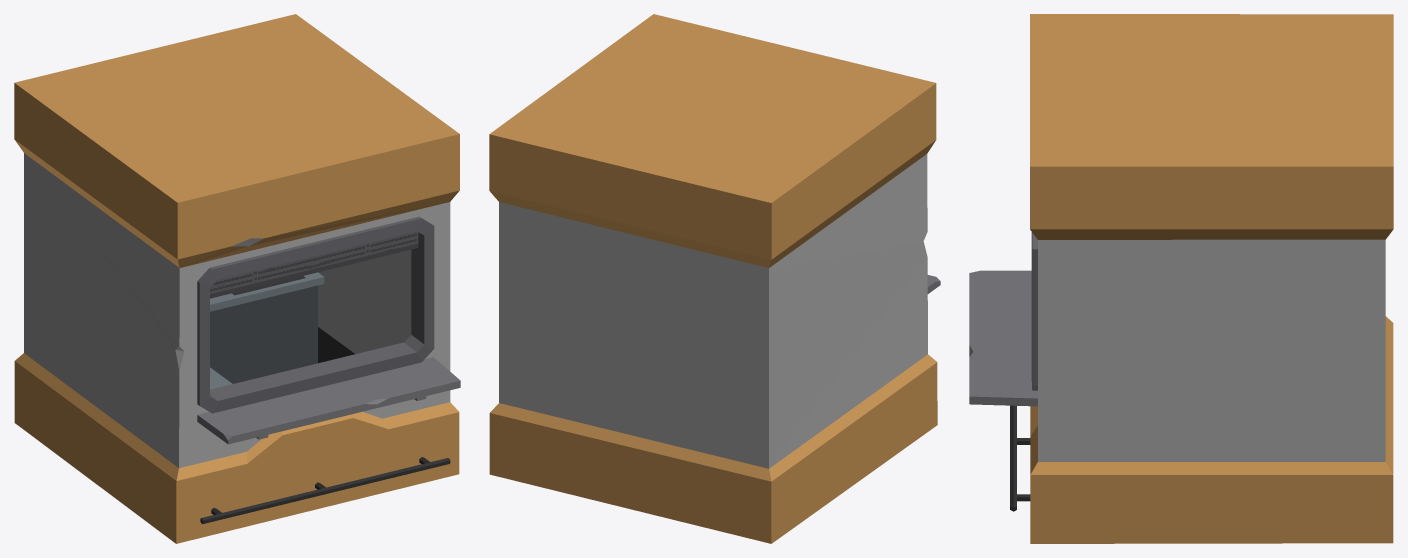
The model's file is arcade.glb.
The picture shows the model from 3 angles, left to right: view 1: azimuth 30°, elevation 25°; view 2: azimuth 150°, elevation 25°; view 3: azimuth 270°, elevation 25°; orthographic projection. The views are drawn at different scales.
Parts seen in each view (by area): view 1: SM_Bld_FoodHole_01; view 2: SM_Bld_FoodHole_01; view 3: SM_Bld_FoodHole_01.
Boxes of the visible parts, bbox=[...] form: SM_Bld_FoodHole_01: bbox=[14, 14, 460, 543]; SM_Bld_FoodHole_01: bbox=[489, 14, 940, 543]; SM_Bld_FoodHole_01: bbox=[969, 14, 1393, 543].
Size of the model in its own units: 10.44 by 12 by 12.21.
Materials: 1 (1 with a texture image).
